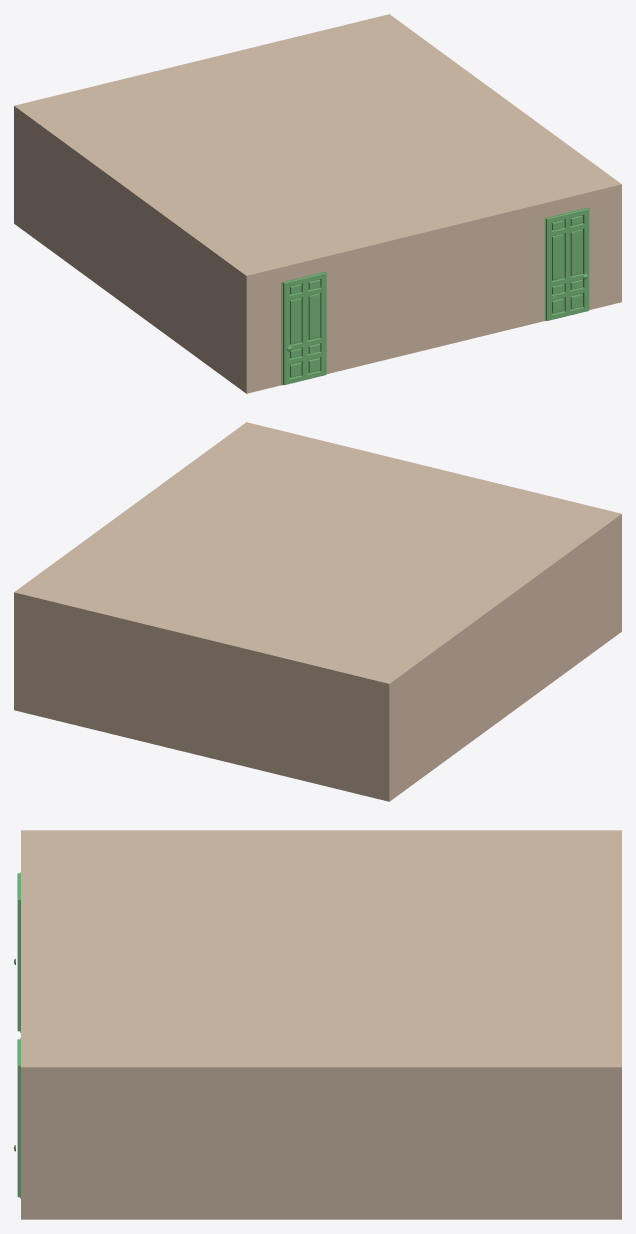
The model's file is Room 2.glb.
3 renders of one model, top to bottom at view 1: azimuth 30°, elevation 25°; view 2: azimuth 150°, elevation 25°; view 3: azimuth 270°, elevation 25°, orthographic. The views are drawn at different scales.
Parts seen in each view (by area): view 1: Mesh_Mesh_head_geo.001_lambert2SG.001; view 2: Mesh_Mesh_head_geo.001_lambert2SG.001; view 3: Mesh_Mesh_head_geo.001_lambert2SG.001.
Boxes of the visible parts, x1,y1,x2,y2 form: Mesh_Mesh_head_geo.001_lambert2SG.001: [14, 14, 621, 393]; Mesh_Mesh_head_geo.001_lambert2SG.001: [14, 422, 621, 801]; Mesh_Mesh_head_geo.001_lambert2SG.001: [14, 830, 621, 1219].
Size of the model in its own units: 40 by 12 by 43.4.
